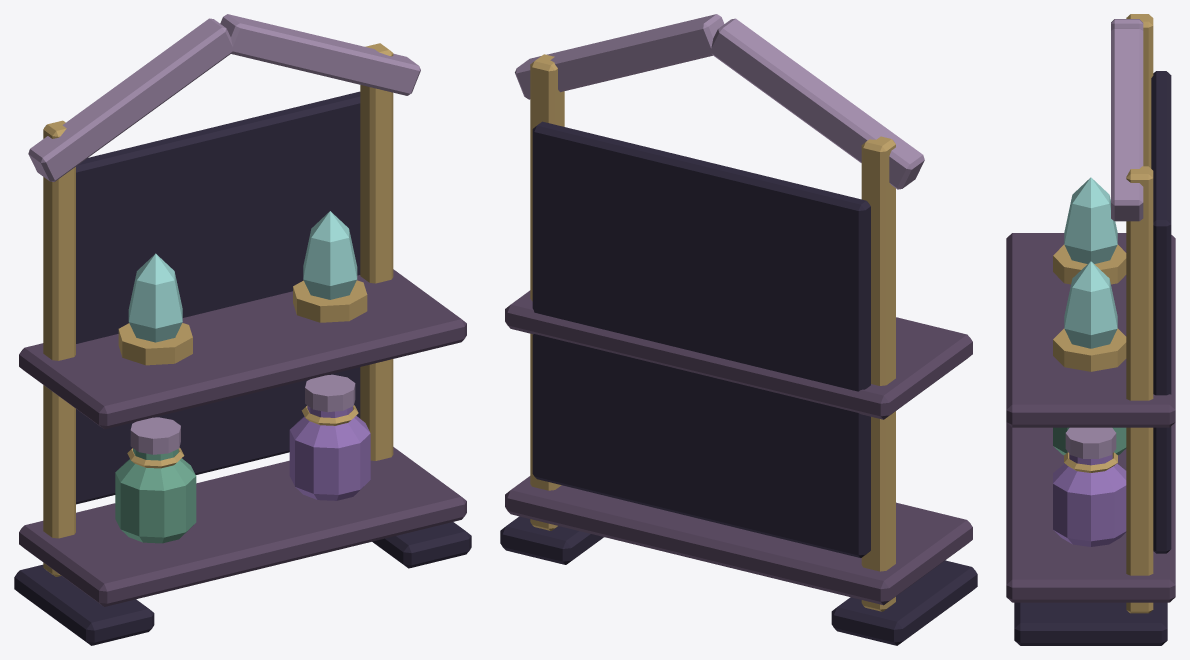
The model's file is 04_Specimen_Stand.glb.
The picture shows the model from 3 angles, left to right: view 1: azimuth 30°, elevation 25°; view 2: azimuth 150°, elevation 25°; view 3: azimuth 270°, elevation 25°; orthographic projection. The views are drawn at different scales.
Parts seen in each view (by area): view 1: 04_Specimen_Stand__Body; view 2: 04_Specimen_Stand__Body; view 3: 04_Specimen_Stand__Body.
Part boxes in pixels (x1,y1,x2,y2): 04_Specimen_Stand__Body: (14, 14, 471, 645); 04_Specimen_Stand__Body: (500, 14, 977, 645); 04_Specimen_Stand__Body: (1006, 14, 1175, 645).
Size of the model in its own units: 2.43 by 3.25 by 0.94.
Materials: 1 (1 with a texture image).
